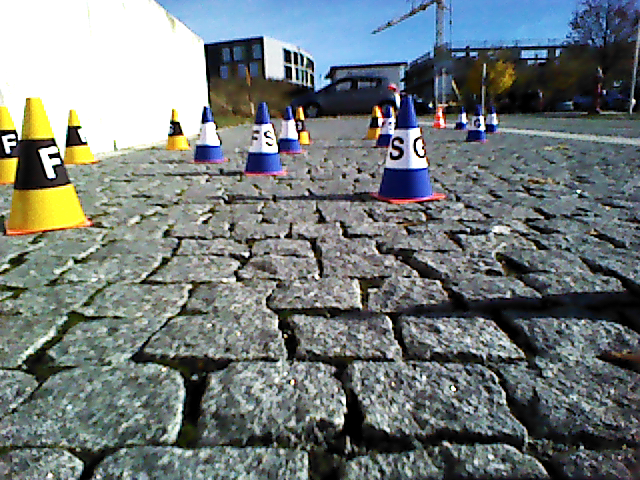bluecone: (383, 97, 433, 196), (247, 103, 281, 173), (193, 106, 224, 160), (279, 108, 298, 151)
yellowcone: (8, 97, 82, 229), (66, 110, 91, 164), (1, 105, 18, 181), (168, 109, 189, 150)
